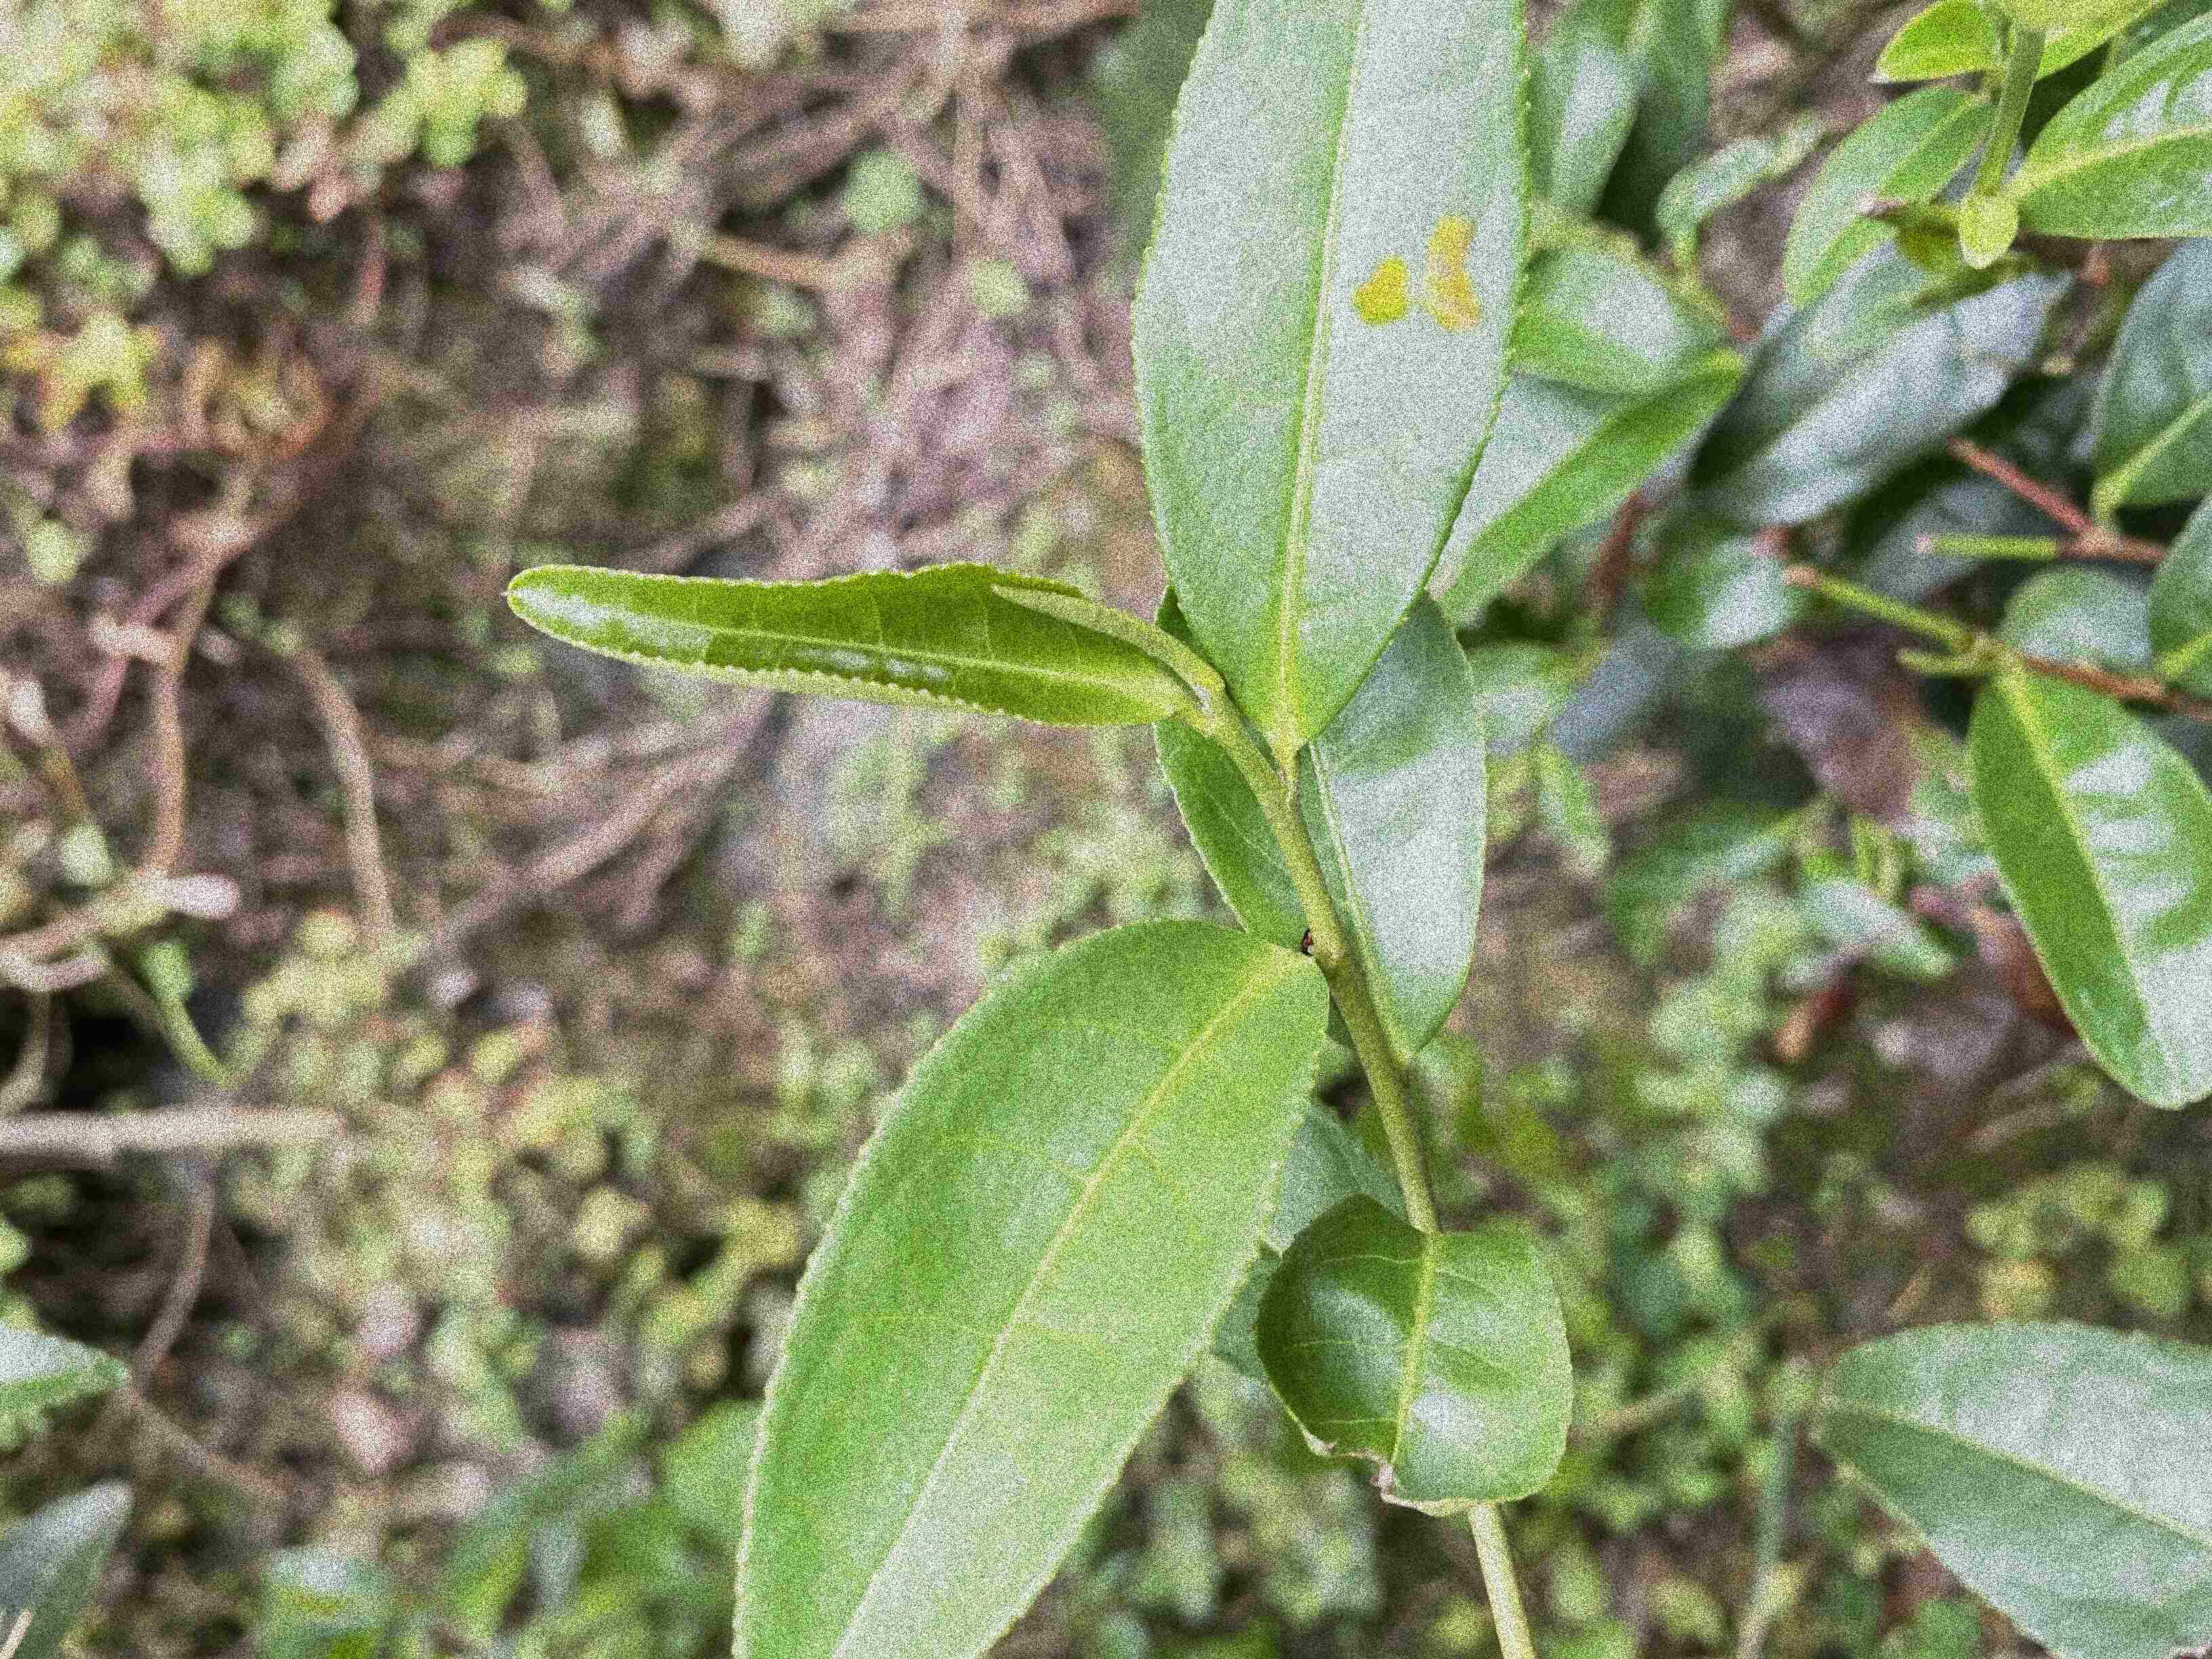chabing_high: (1125, 3, 1538, 746)
chihuo_low: (1256, 1192, 1573, 1516)
healthy: (723, 915, 1332, 1659), (507, 558, 1184, 728)
